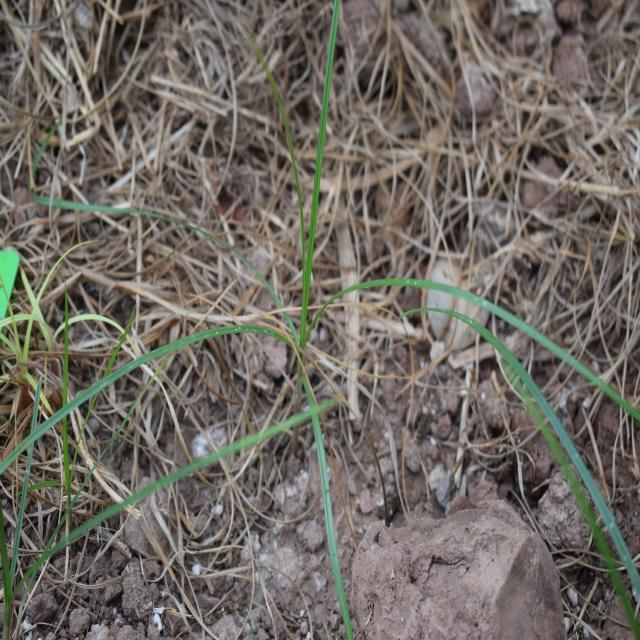sedge: (31, 78, 518, 473)
